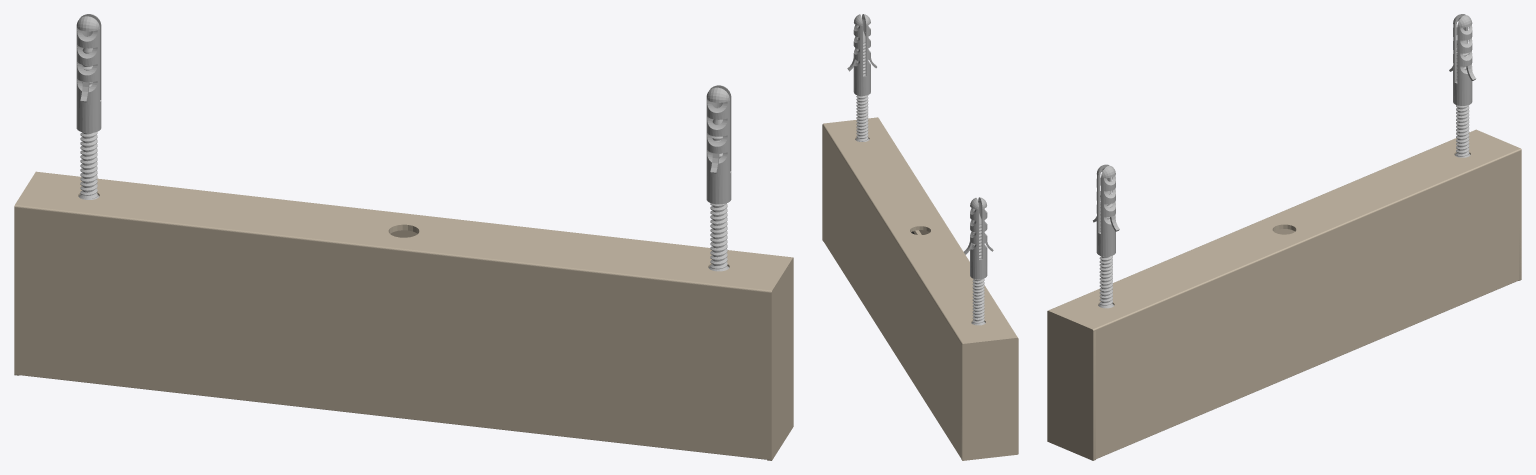
Rendered from Grid-plafon.glb.
The picture shows the model from 3 angles, left to right: view 1: azimuth 30°, elevation 25°; view 2: azimuth 150°, elevation 25°; view 3: azimuth 270°, elevation 25°; orthographic projection. The views are drawn at different scales.
Parts seen in each view (by area): view 1: 3DGeom-4, 3DGeom-13 (×2), 3DGeom-6, 3DGeom-3 (×2); view 2: 3DGeom-4, 3DGeom-6 (×2), 3DGeom-13 (×2), 3DGeom-3 (×2); view 3: 3DGeom-4, 3DGeom-6, 3DGeom-13 (×2), 3DGeom-3 (×2).
Boxes of the visible parts, x1,y1,x2,y2 form: 3DGeom-4: (14,171,793,460); 3DGeom-13 (×2): (76,14,731,204); 3DGeom-6: (767,258,793,460); 3DGeom-3 (×2): (78,36,729,271); 3DGeom-4: (822,117,1018,458); 3DGeom-6 (×2): (822,126,1018,460); 3DGeom-13 (×2): (847,14,993,279); 3DGeom-3 (×2): (855,30,985,325); 3DGeom-4: (1047,129,1521,458); 3DGeom-6: (1047,311,1095,460); 3DGeom-13 (×2): (1093,14,1475,256); 3DGeom-3 (×2): (1098,40,1470,308).
Bounding box in the file's own units: 0.0987 × 0.0621 × 0.0987.
7 materials, 2 textured.
